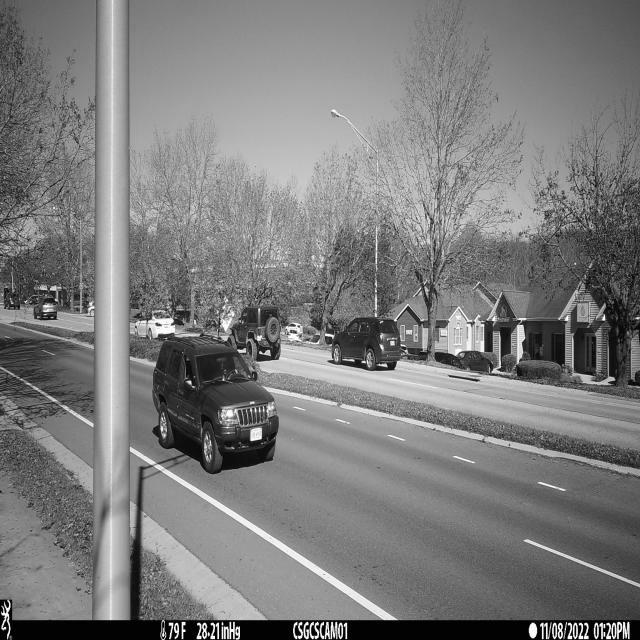SUV: (152, 337, 279, 475)
